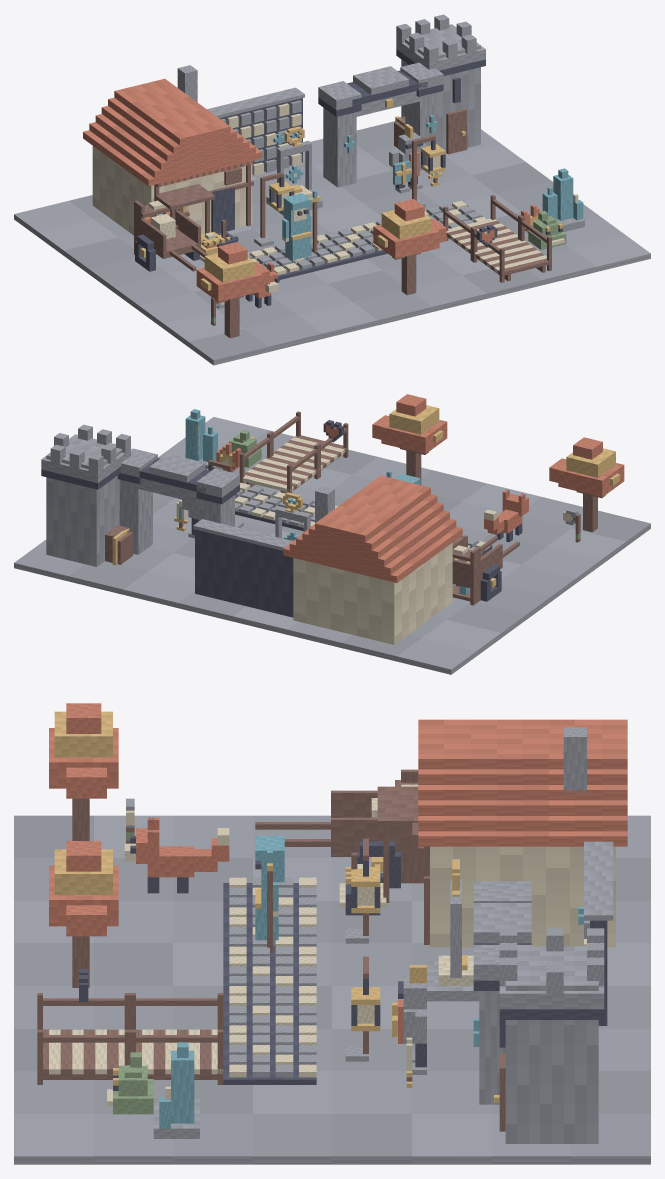
Rendered from ember-quest-starter-scene__325.glb.
3 renders of one model, top to bottom at view 1: azimuth 30°, elevation 25°; view 2: azimuth 150°, elevation 25°; view 3: azimuth 270°, elevation 25°, orthographic. The views are drawn at different scales.
Visible parts, largest first — view 1: terrain-base, 01-ember-quest-wayfarer-inn/2, 02-ember-quest-rune-gate/0, 03-ember-quest-watch-turret/0, 01-ember-quest-wayfarer-inn/0, 01-ember-quest-wayfarer-inn/1, 19-ember-quest-ember-oak/1, 18-ember-quest-ember-oak/1, 12-ember-quest-dungeon-wall/2, 13-ember-quest-handcart/0, 10-ember-quest-timber-bridge/0, 14-ember-quest-rune-keeper/0 (+25 smaller); view 2: terrain-base, 01-ember-quest-wayfarer-inn/2, 01-ember-quest-wayfarer-inn/0, 03-ember-quest-watch-turret/0, 02-ember-quest-rune-gate/0, 12-ember-quest-dungeon-wall/0, 11-ember-quest-dungeon-wall/0, 19-ember-quest-ember-oak/1, 18-ember-quest-ember-oak/1, 09-ember-quest-timber-bridge/0, 13-ember-quest-handcart/0, 10-ember-quest-timber-bridge/0 (+20 smaller); view 3: terrain-base, 01-ember-quest-wayfarer-inn/2, 03-ember-quest-watch-turret/0, 01-ember-quest-wayfarer-inn/0, 02-ember-quest-rune-gate/0, 13-ember-quest-handcart/0, 10-ember-quest-timber-bridge/0, 19-ember-quest-ember-oak/1, 18-ember-quest-ember-oak/1, 09-ember-quest-timber-bridge/0, 01-ember-quest-wayfarer-inn/1, 17-ember-quest-ember-fox/0 (+36 smaller).
Boxes of the visible parts, <box> form: terrain-base: <box>14,121,650,365</box>; 01-ember-quest-wayfarer-inn/2: <box>83,78,262,186</box>; 02-ember-quest-rune-gate/0: <box>318,62,443,187</box>; 03-ember-quest-watch-turret/0: <box>396,14,485,152</box>; 01-ember-quest-wayfarer-inn/0: <box>92,146,252,235</box>; 01-ember-quest-wayfarer-inn/1: <box>154,162,253,257</box>; 19-ember-quest-ember-oak/1: <box>373,199,446,258</box>; 18-ember-quest-ember-oak/1: <box>196,242,269,301</box>; 12-ember-quest-dungeon-wall/2: <box>245,87,304,172</box>; 13-ember-quest-handcart/0: <box>134,211,208,271</box>; 10-ember-quest-timber-bridge/0: <box>472,216,551,282</box>; 14-ember-quest-rune-keeper/0: <box>282,190,317,263</box>; terrain-base: <box>14,417,650,674</box>; 01-ember-quest-wayfarer-inn/2: <box>283,475,462,582</box>; 01-ember-quest-wayfarer-inn/0: <box>293,543,452,644</box>; 03-ember-quest-watch-turret/0: <box>41,424,130,566</box>; 02-ember-quest-rune-gate/0: <box>119,448,239,554</box>; 12-ember-quest-dungeon-wall/0: <box>195,529,245,605</box>; 11-ember-quest-dungeon-wall/0: <box>245,542,293,617</box>; 19-ember-quest-ember-oak/1: <box>372,394,447,453</box>; 18-ember-quest-ember-oak/1: <box>549,437,624,497</box>; 09-ember-quest-timber-bridge/0: <box>239,433,319,493</box>; 13-ember-quest-handcart/0: <box>452,535,519,588</box>; 10-ember-quest-timber-bridge/0: <box>269,411,348,477</box>; terrain-base: <box>14,815,650,1164</box>; 01-ember-quest-wayfarer-inn/2: <box>418,719,627,846</box>; 03-ember-quest-watch-turret/0: <box>499,928,604,1143</box>; 01-ember-quest-wayfarer-inn/0: <box>430,846,615,947</box>; 02-ember-quest-rune-gate/0: <box>473,881,531,1104</box>; 13-ember-quest-handcart/0: <box>255,790,418,856</box>; 10-ember-quest-timber-bridge/0: <box>37,993,130,1084</box>; 19-ember-quest-ember-oak/1: <box>49,841,118,936</box>; 18-ember-quest-ember-oak/1: <box>49,703,118,798</box>; 09-ember-quest-timber-bridge/0: <box>130,993,223,1084</box>; 01-ember-quest-wayfarer-inn/1: <box>377,786,429,944</box>; 17-ember-quest-ember-fox/0: <box>136,817,229,877</box>.
Size of the model in its own units: 17.31 by 4.95 by 13.69.
Materials: 8 (8 with a texture image).
